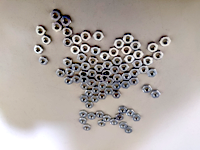nut: (160, 36, 172, 47), (114, 38, 125, 49), (61, 15, 71, 27), (51, 9, 61, 21), (148, 42, 159, 52), (143, 56, 154, 66), (132, 59, 143, 69), (109, 47, 120, 57), (36, 25, 46, 36), (133, 50, 145, 59), (124, 34, 134, 44), (113, 56, 123, 66), (94, 31, 104, 41), (81, 31, 91, 41), (63, 27, 73, 37), (53, 22, 63, 32), (71, 63, 81, 73), (56, 68, 66, 78), (151, 90, 162, 99), (119, 63, 130, 72), (154, 51, 164, 60), (148, 68, 157, 78), (143, 85, 153, 94), (131, 41, 141, 50), (122, 46, 132, 55), (130, 77, 140, 86), (103, 61, 113, 70), (95, 63, 104, 73), (81, 62, 91, 71), (92, 46, 101, 56), (81, 43, 90, 53), (73, 35, 82, 45), (71, 45, 80, 55), (64, 37, 73, 47), (39, 56, 48, 66), (34, 44, 43, 54), (81, 62, 90, 72), (64, 77, 74, 86), (63, 58, 73, 67), (113, 82, 122, 91), (111, 66, 120, 75), (105, 87, 114, 96), (80, 95, 89, 104), (42, 36, 51, 45), (78, 53, 87, 62), (88, 69, 97, 78), (72, 75, 81, 84), (65, 68, 74, 77), (125, 55, 135, 63), (130, 69, 140, 77), (100, 52, 110, 60), (79, 71, 89, 79), (139, 66, 148, 74), (113, 91, 122, 99), (93, 86, 101, 95), (85, 89, 94, 97), (88, 79, 97, 87), (133, 114, 142, 122), (119, 106, 127, 115), (103, 115, 112, 123), (88, 112, 96, 121), (83, 124, 92, 132), (79, 110, 88, 118), (89, 57, 98, 65), (80, 76, 89, 84), (122, 73, 132, 80), (114, 74, 122, 82), (122, 81, 130, 89), (106, 78, 114, 86), (127, 109, 135, 117), (98, 120, 106, 128), (79, 118, 87, 126), (100, 75, 109, 82), (103, 70, 112, 77), (98, 82, 107, 89), (91, 96, 100, 103), (86, 102, 95, 109), (80, 83, 89, 90), (99, 92, 106, 100), (96, 74, 103, 82), (125, 127, 133, 134), (119, 122, 127, 129), (111, 119, 118, 126), (97, 111, 103, 119)
